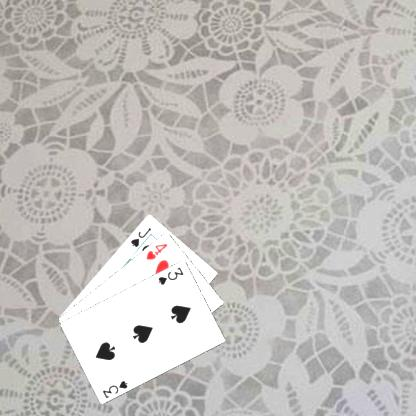3S: (155, 264, 185, 286), (100, 378, 129, 399)
4H: (143, 240, 169, 261)
JS: (128, 225, 153, 248)
